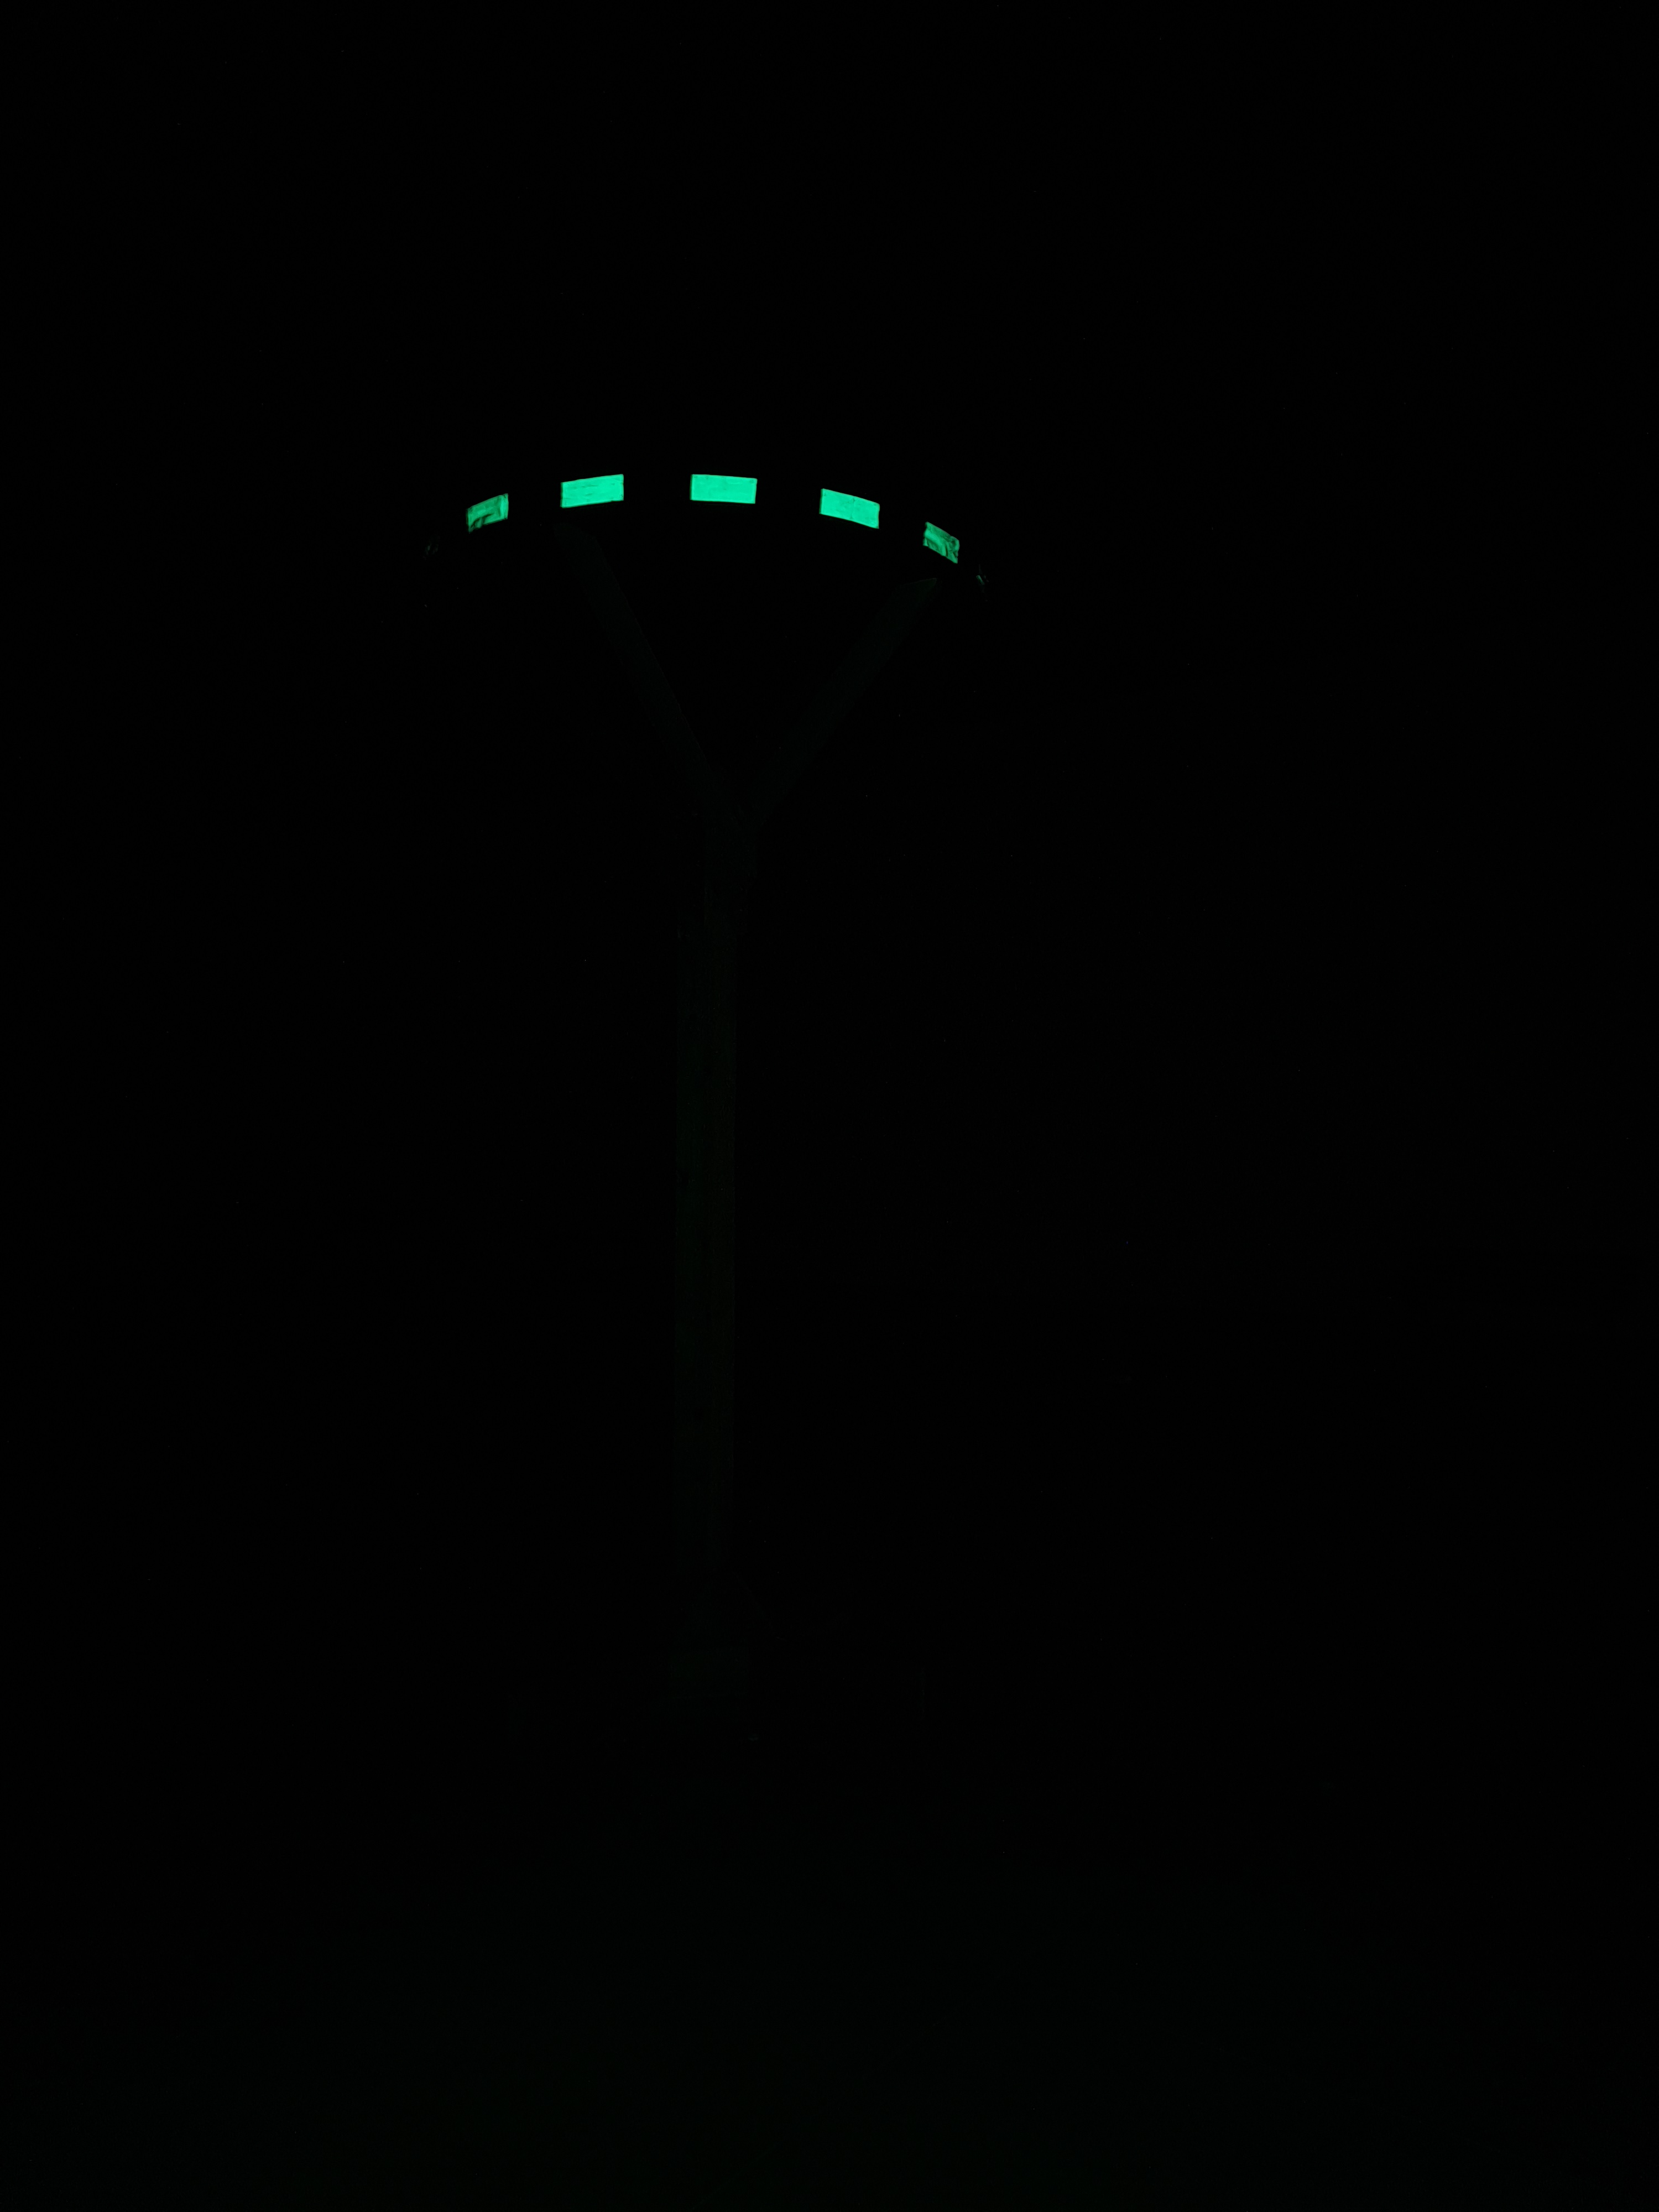hoop: (465, 465, 965, 571)
